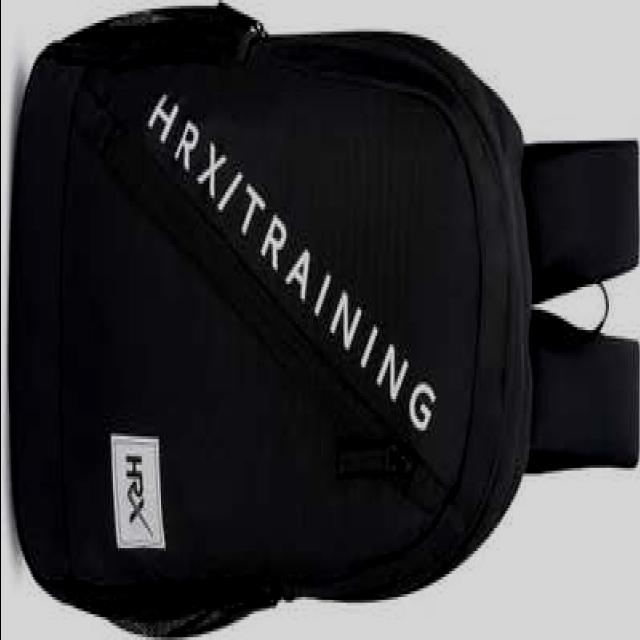backpack: (9, 1, 640, 638)
